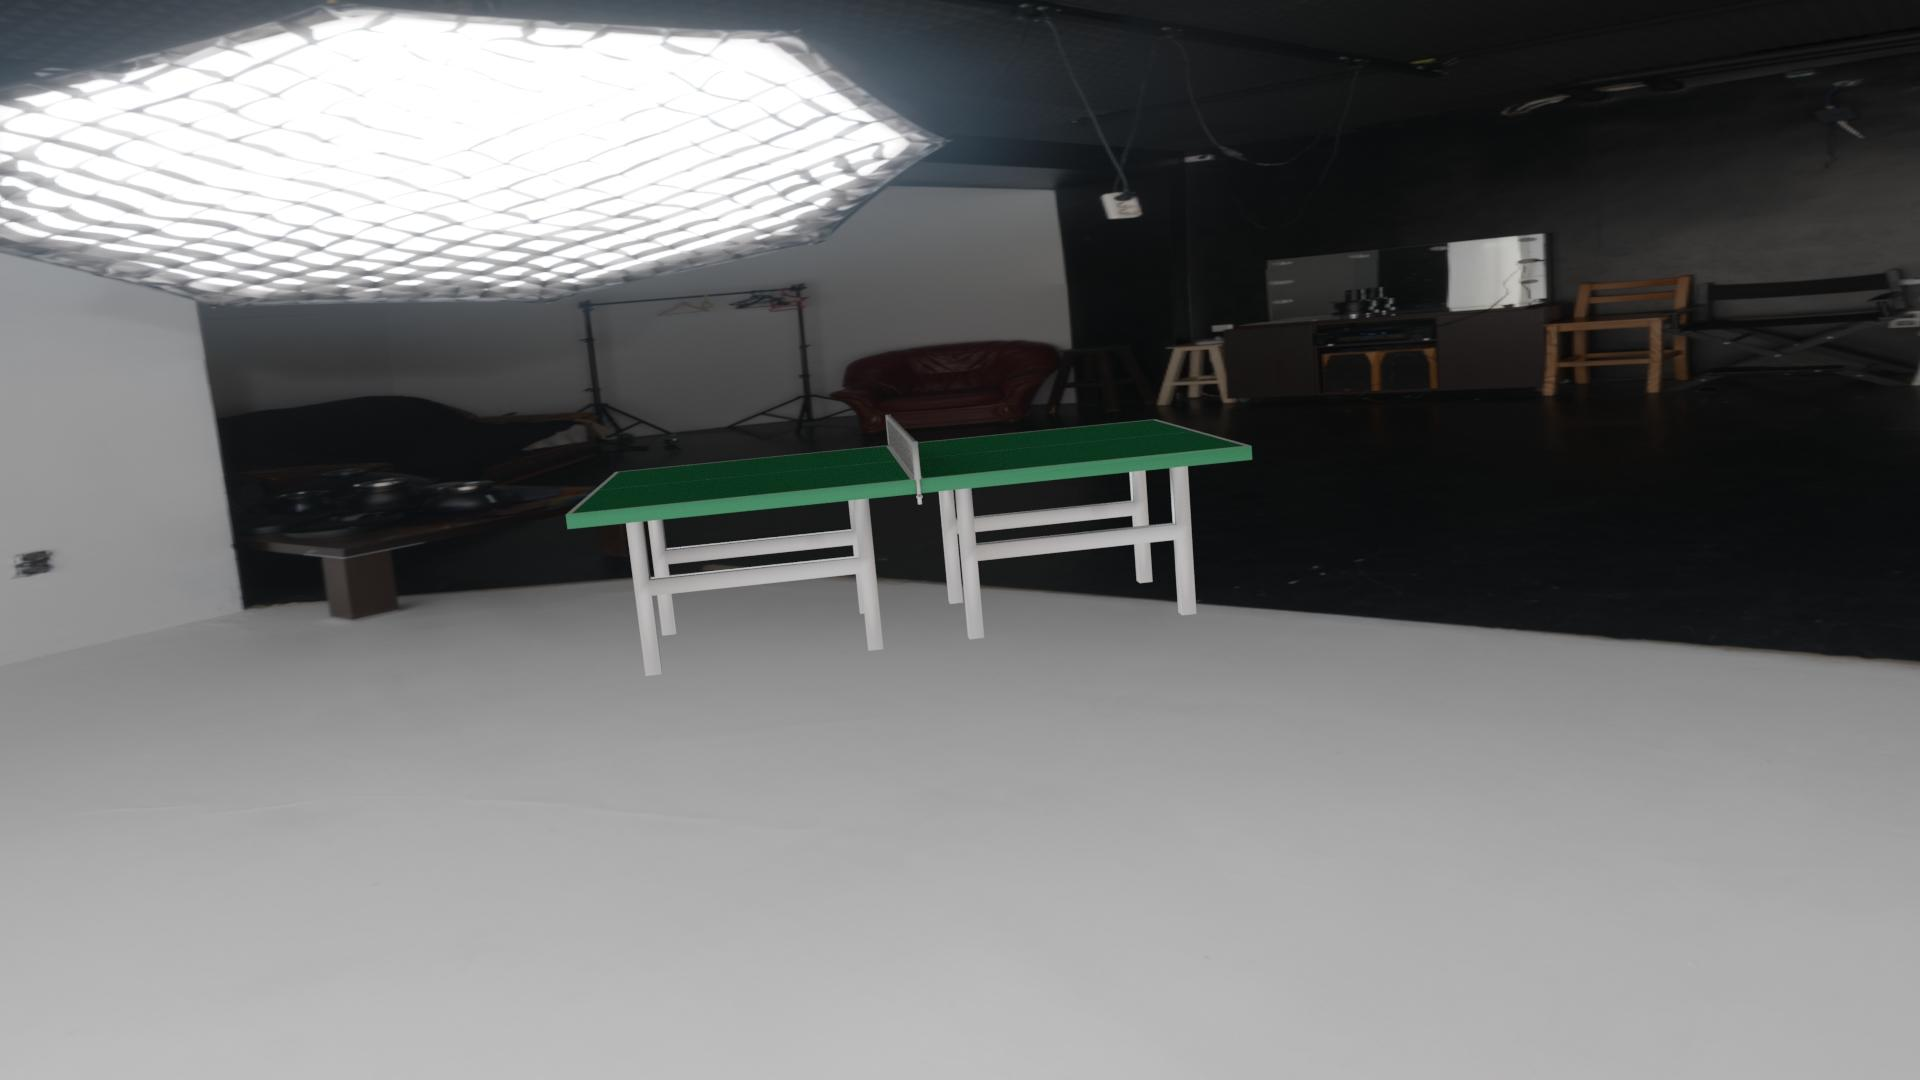table: (572, 419, 1245, 513)
